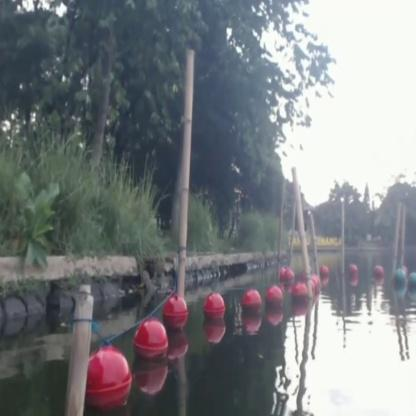green_buoy: (394, 264, 406, 290), (408, 270, 415, 296)
red_buoy: (87, 350, 131, 406), (134, 316, 167, 366), (162, 295, 188, 332), (204, 290, 226, 326), (241, 288, 263, 320), (264, 286, 283, 312), (295, 284, 307, 308), (280, 267, 294, 283), (372, 265, 384, 282), (350, 264, 360, 280), (320, 263, 327, 280)
